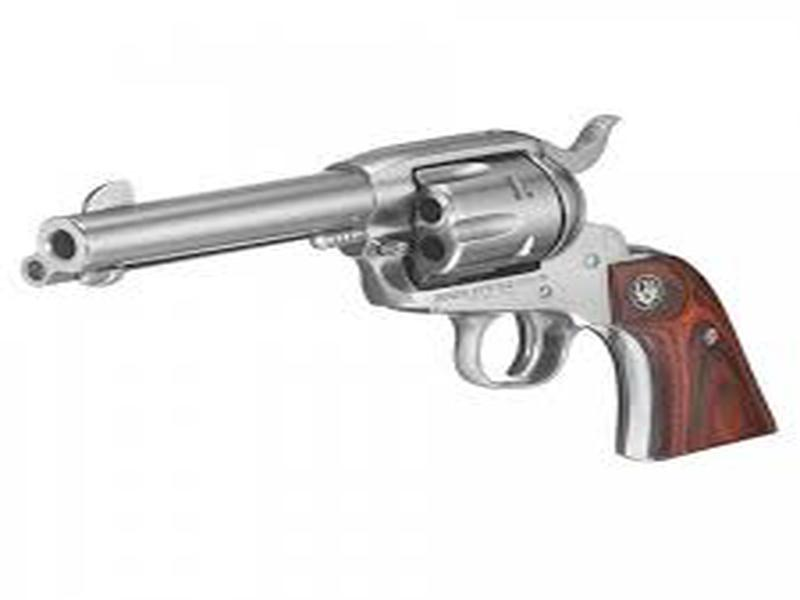Revolver: (10, 103, 758, 474)
